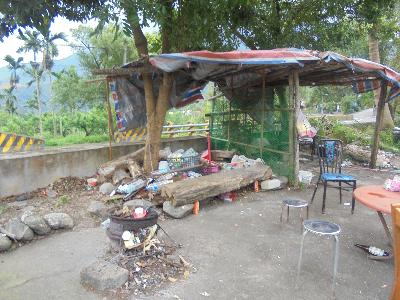bottle: (354, 241, 392, 259)
plastic_bag: (105, 44, 400, 132)
